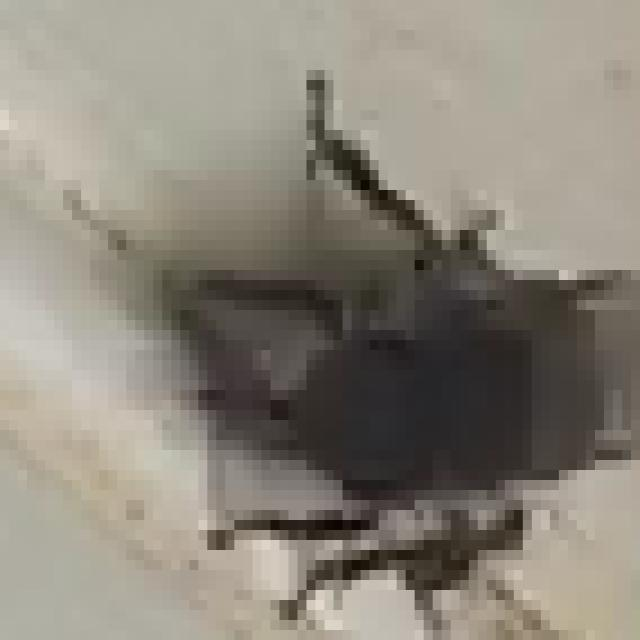honeybee: (175, 95, 640, 593)
